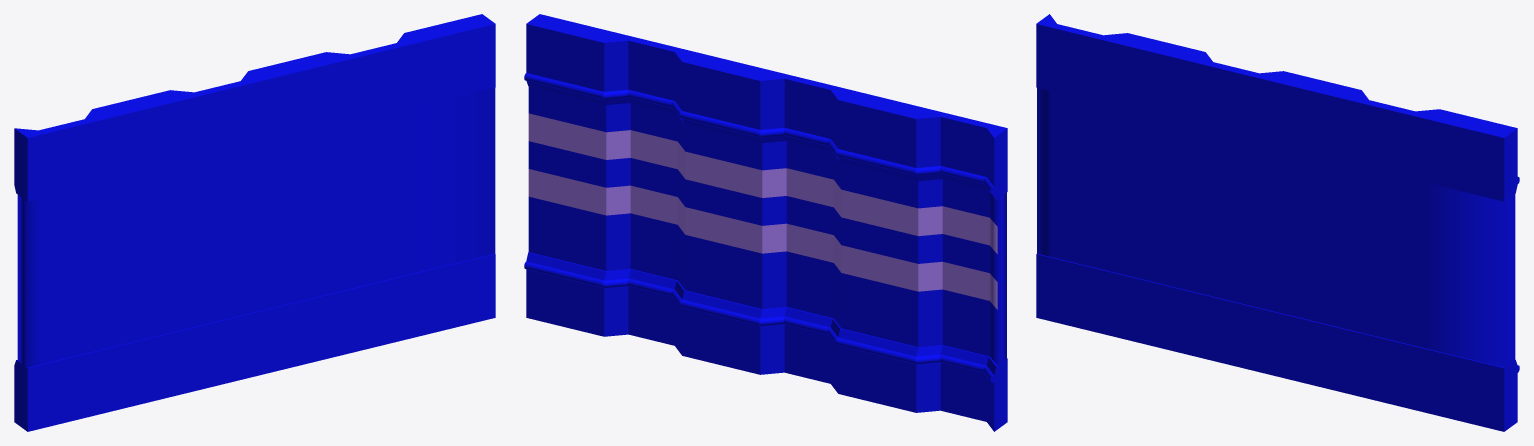
Rendered from Inside_Wall_2.fbx.
The picture shows the model from 3 angles, left to right: view 1: azimuth 30°, elevation 25°; view 2: azimuth 150°, elevation 25°; view 3: azimuth 330°, elevation 25°; orthographic projection.
Visible parts, largest first — view 1: Box012; view 2: Box012; view 3: Box012.
Boxes of the visible parts, left/top/right/bottom form: Box012: left=14, top=14, right=495, bottom=431; Box012: left=524, top=14, right=1007, bottom=431; Box012: left=1036, top=14, right=1519, bottom=431.
Bounding box in the file's own units: 394 × 236 × 22.64.
